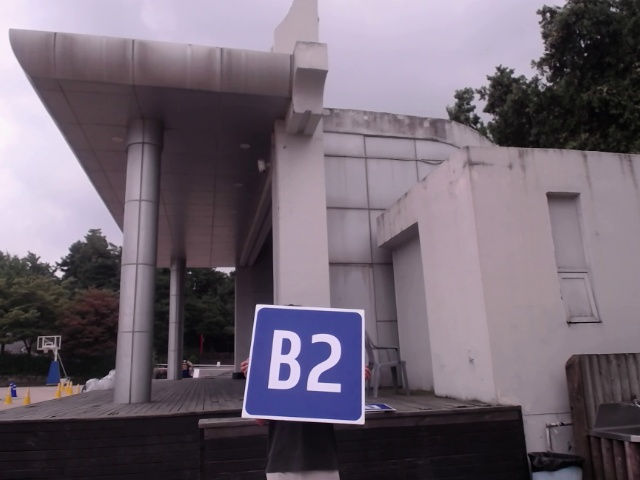delivery_b2: (247, 305, 364, 423)
